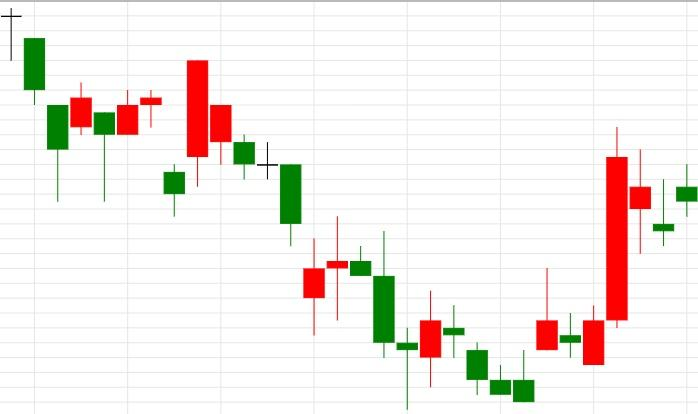hammer_rise: (0, 6, 116, 202)
morning_star_rise: (326, 216, 442, 410)
